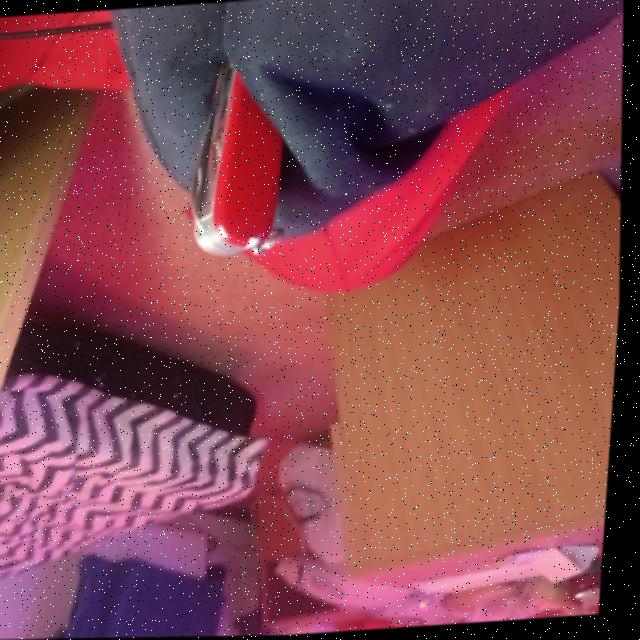knife victorinox: (193, 62, 285, 255)
